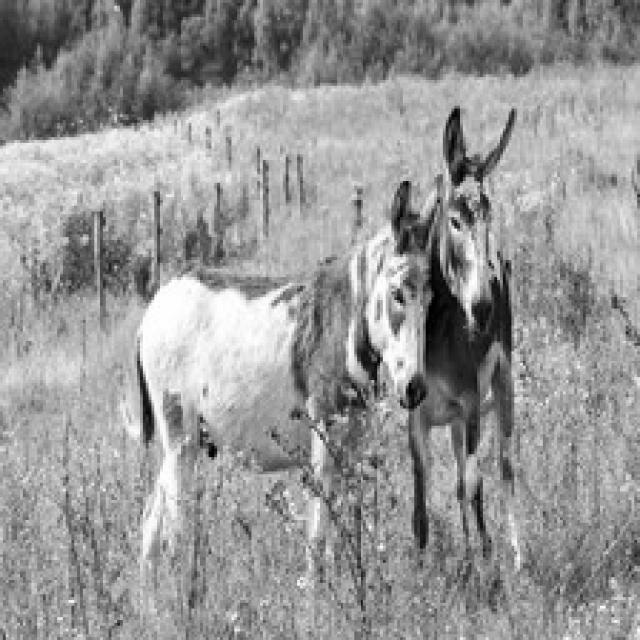Donkey: (131, 174, 443, 612), (406, 103, 523, 606), (629, 123, 637, 577)
